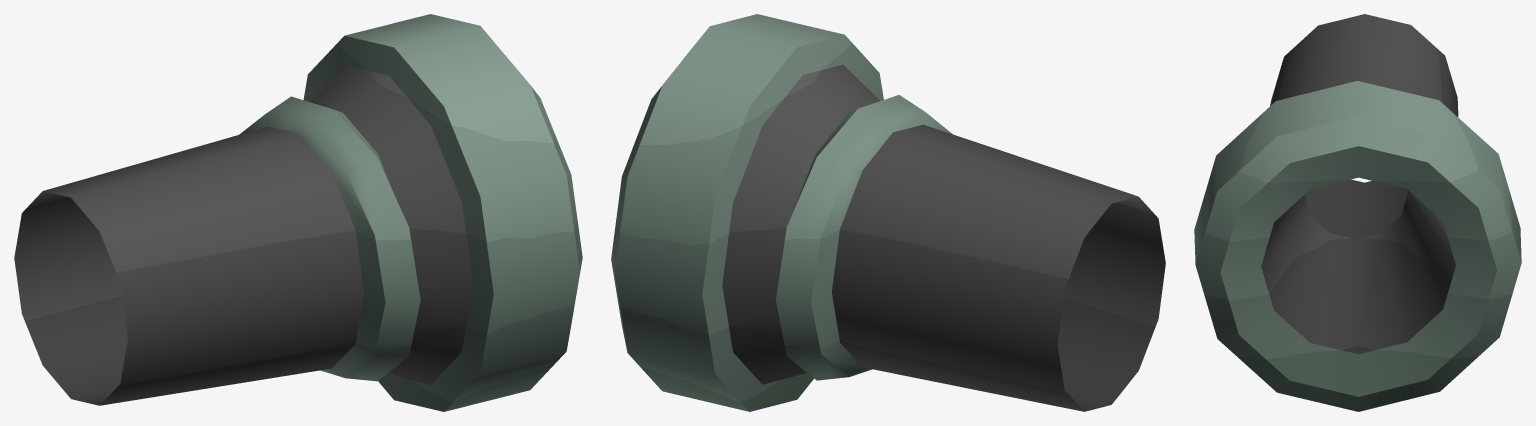
Rendered from cannon.fbx.
The picture shows the model from 3 angles, left to right: view 1: azimuth 30°, elevation 25°; view 2: azimuth 150°, elevation 25°; view 3: azimuth 270°, elevation 25°; orthographic projection. The views are drawn at different scales.
Parts seen in each view (by area): view 1: Ship Cannon; view 2: Ship Cannon; view 3: Ship Cannon.
Boxes of the visible parts, x1=… form: Ship Cannon: x1=14, y1=14, x2=582, y2=411; Ship Cannon: x1=611, y1=14, x2=1165, y2=411; Ship Cannon: x1=1194, y1=14, x2=1521, y2=411.
Bounding box in the file's own units: 63.23 × 49.95 × 50.12.
